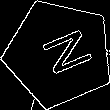N_SW: (28, 25, 90, 82)
